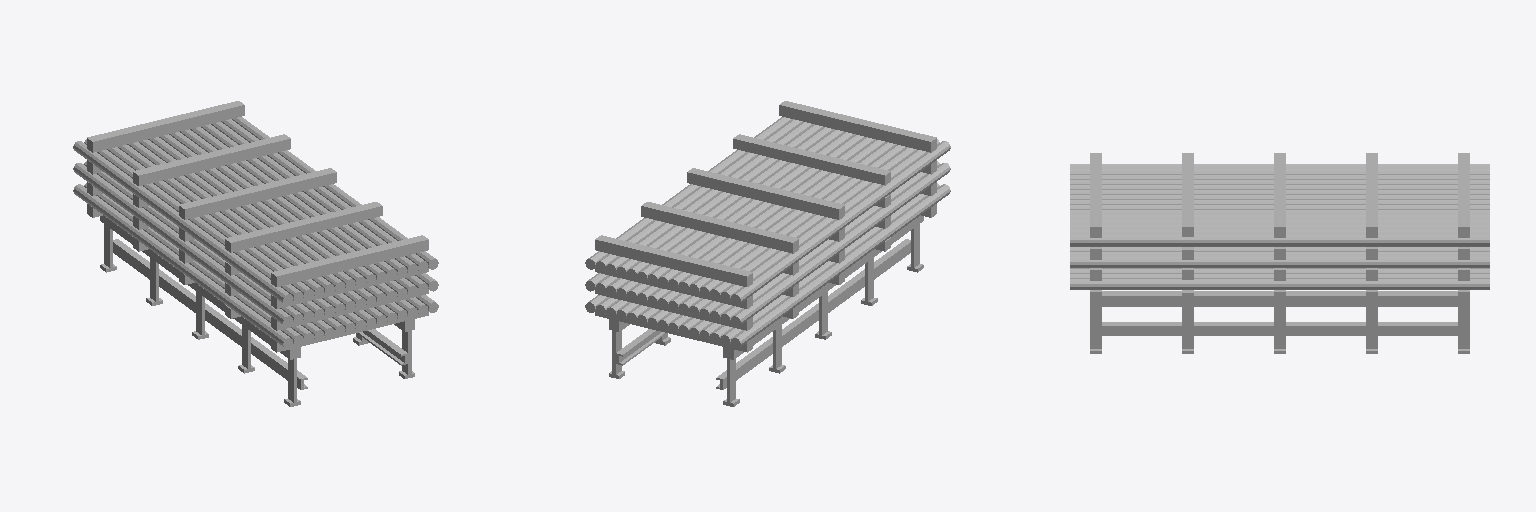
File: Stillage.obj
3 views of the same model, side by side, from view 1: azimuth 30°, elevation 25°; view 2: azimuth 150°, elevation 25°; view 3: azimuth 270°, elevation 25° (orthographic).
Parts seen in each view (by area): view 1: Stillage; view 2: Stillage; view 3: Stillage.
Part boxes in pixels (left/top/right/bottom): Stillage: left=73, top=101, right=438, bottom=406; Stillage: left=585, top=101, right=950, bottom=406; Stillage: left=1070, top=153, right=1489, bottom=353.
Bounding box in the file's own units: 90 × 74 × 210.